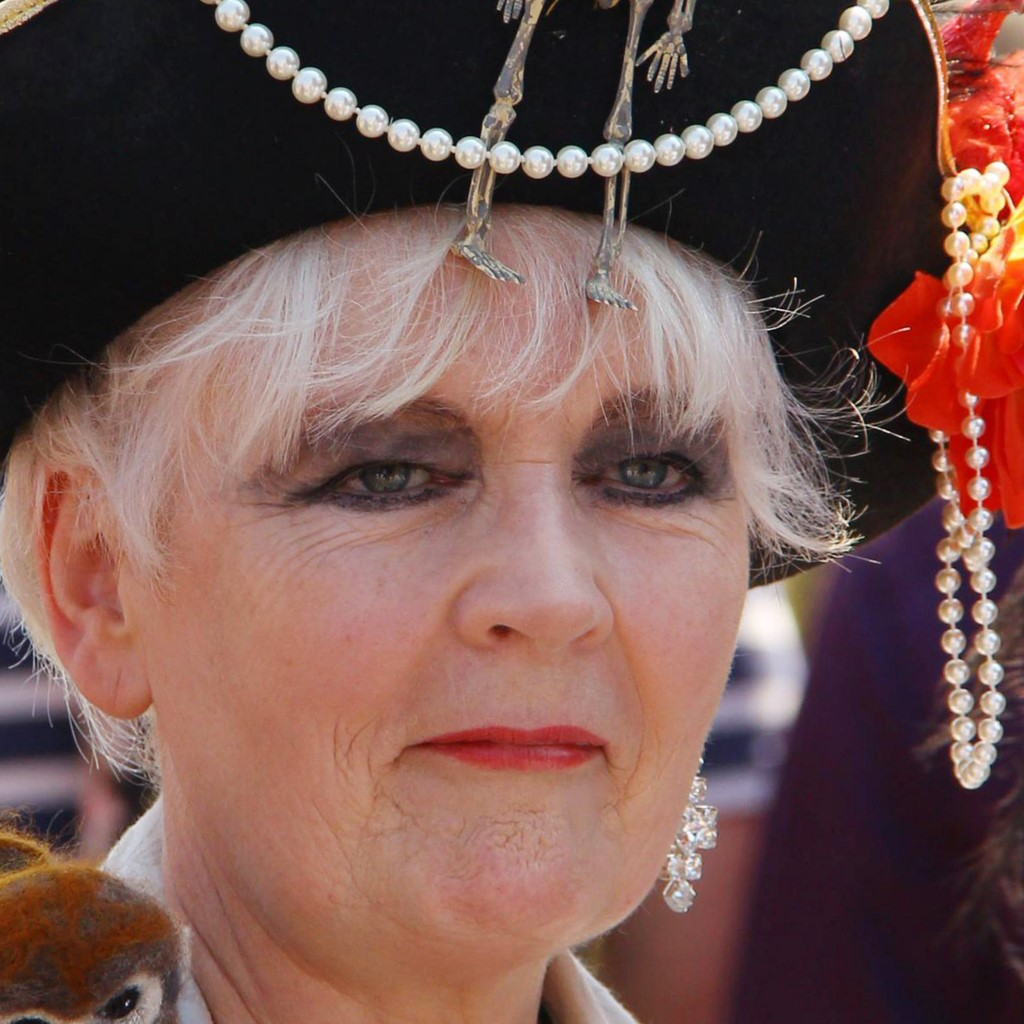sin_mascara: (140, 196, 766, 954)
